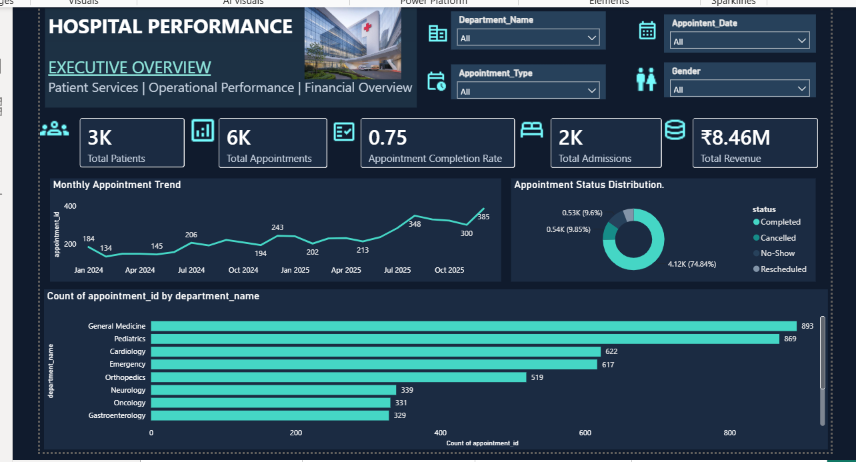

Layout of this report page (visuals, bound fields, positions):
{"tool":"powerbi","page":{"name":"Executive Overview","canvas":[1280,720],"ordinal":0},"visuals":[{"type":"textbox","box":[8.4,55.2,602.1,107],"z":0},{"type":"textbox","box":[8.4,1.7,602.1,53.5],"z":1000},{"type":"cardVisual","fields":{"Data":["appointments_clean.Total Appointments"]},"box":[272.6,162.2,210.7,115.4],"z":2000},{"type":"cardVisual","fields":{"Data":["appointments_clean.Appointment Completion Rate"]},"box":[501.7,162.2,284.3,115.4],"z":3000},{"type":"cardVisual","fields":{"Data":["admissions_clean.Total Admissions"]},"box":[809.5,162.2,214.1,115.4],"z":4000},{"type":"lineChart","title":"Monthly Appointment Trend","fields":{"Y":["CountNonNull(appointments_clean.appointment_id)"],"Category":["appointments_clean.appointment_date.Variation.Date Hierarchy.Year","appointments_clean.appointment_date.Variation.Date Hierarchy.Month"]},"box":[16.7,277.6,730.9,167.2],"z":5000},{"type":"clusteredBarChart","fields":{"Category":["departments_clean.department_name"],"Y":["Count(appointments_clean.appointment_id)"]},"box":[8.4,459.9,1269.4,259.2],"z":6000},{"type":"donutChart","title":"Appointment Status Distribution.","fields":{"Category":["appointments_clean.status"],"Y":["CountNonNull(appointments_clean.appointment_id)"]},"box":[762.7,277.6,493.4,167.2],"z":7000},{"type":"cardVisual","fields":{"Data":["billing_clean.Total Revenue"]},"box":[1040.3,162.2,237.5,115.4],"z":8000},{"type":"slicer","fields":{"Values":["departments_clean.department_name"]},"box":[665.6,6.7,250.9,61.9],"z":9000},{"type":"image","box":[627.2,18.4,35.1,48.5],"z":10000},{"type":"slicer","fields":{"Values":["appointments_clean.appointment_date"]},"box":[1010.2,11.7,245.9,61.9],"z":11000},{"type":"slicer","fields":{"Values":["appointments_clean.appointment_type"]},"box":[665.6,92,250.9,56.9],"z":12000},{"type":"slicer","fields":{"Values":["doctors_clean.gender"]},"box":[1010.2,88.6,245.9,56.9],"z":13000},{"type":"image","box":[958.3,92,45.2,48.5],"z":14000},{"type":"image","box":[623.8,97,35.1,43.5],"z":15000},{"type":"image","box":[958.3,20.1,50.2,35.1],"z":16000},{"type":"image","box":[219.1,175.6,90.3,48.5],"z":17000},{"type":"image","box":[1003.5,177.3,48.5,43.5],"z":18000},{"type":"image","box":[466.6,180.6,51.8,40.1],"z":19000},{"type":"image","box":[0,145.5,46.8,100.3],"z":20000},{"type":"image","box":[762.7,177.3,66.9,43.5],"z":21000},{"type":"cardVisual","fields":{"Data":["patients_clean.Total Patients"]},"box":[46.5,148.2,203.4,112],"z":22000},{"type":"image","box":[387,0,239.6,116.6],"z":22001}]}

Visuals, with their boxes on the page's 1280x720 design canvas (x1, y1, x2, y2). These are canvas units, not pixel positions in the 856x462 screenshot, which may show the page scaled, cropped or inside an application window:
textbox: left=8, top=55, right=610, bottom=162
textbox: left=8, top=2, right=610, bottom=55
cardVisual - appointments_clean.Total Appointments: left=273, top=162, right=483, bottom=278
cardVisual - appointments_clean.Appointment Completion Rate: left=502, top=162, right=786, bottom=278
cardVisual - admissions_clean.Total Admissions: left=810, top=162, right=1024, bottom=278
"Monthly Appointment Trend" lineChart: left=17, top=278, right=748, bottom=445
clusteredBarChart - departments_clean.department_name x Count(appointments_clean.appointment_id): left=8, top=460, right=1278, bottom=719
"Appointment Status Distribution." donutChart: left=763, top=278, right=1256, bottom=445
cardVisual - billing_clean.Total Revenue: left=1040, top=162, right=1278, bottom=278
slicer - departments_clean.department_name: left=666, top=7, right=916, bottom=69
image: left=627, top=18, right=662, bottom=67
slicer - appointments_clean.appointment_date: left=1010, top=12, right=1256, bottom=74
slicer - appointments_clean.appointment_type: left=666, top=92, right=916, bottom=149
slicer - doctors_clean.gender: left=1010, top=89, right=1256, bottom=146
image: left=958, top=92, right=1004, bottom=140
image: left=624, top=97, right=659, bottom=140
image: left=958, top=20, right=1008, bottom=55
image: left=219, top=176, right=309, bottom=224
image: left=1004, top=177, right=1052, bottom=221
image: left=467, top=181, right=518, bottom=221
image: left=0, top=146, right=47, bottom=246
image: left=763, top=177, right=830, bottom=221
cardVisual - patients_clean.Total Patients: left=46, top=148, right=250, bottom=260
image: left=387, top=0, right=627, bottom=117
